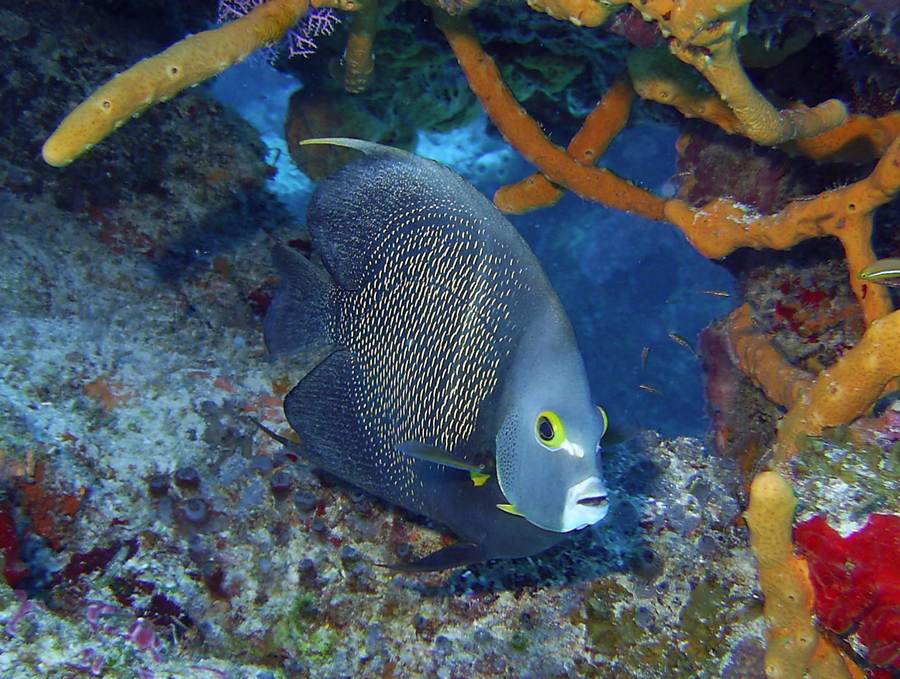Pomacanthus_paru: (287, 119, 635, 593)
